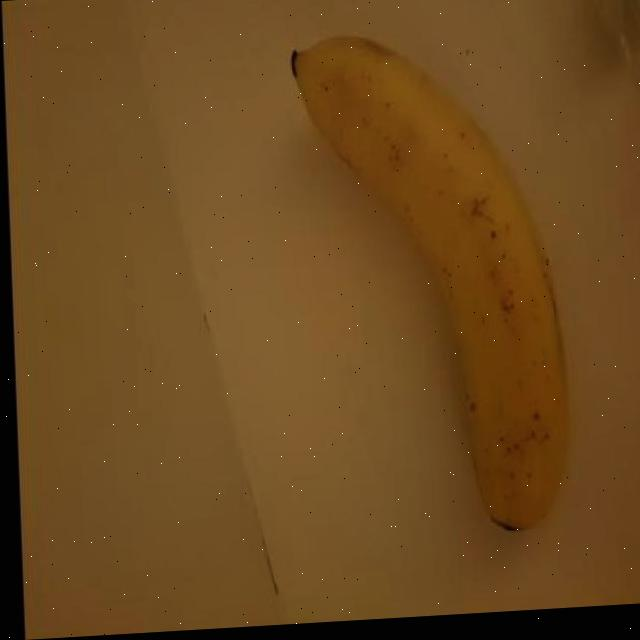banana: (283, 16, 580, 551)
